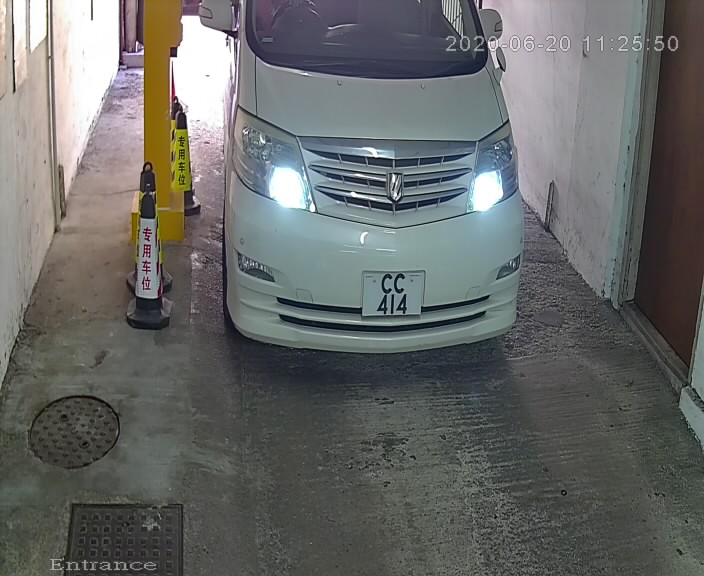privatecar: (186, 3, 552, 394)
